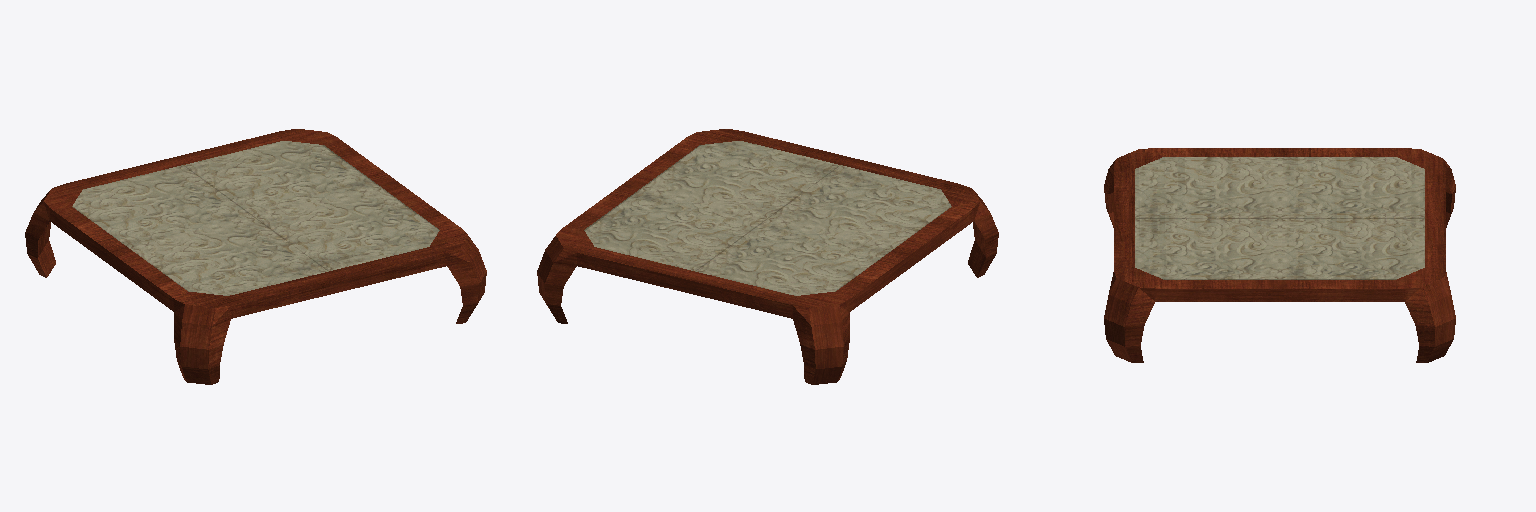
3 views of the same model, side by side, from view 1: azimuth 30°, elevation 25°; view 2: azimuth 150°, elevation 25°; view 3: azimuth 270°, elevation 25° (orthographic).
Visible parts, largest first — view 1: Dr_furnit_Smallbasis; view 2: Dr_furnit_Smallbasis; view 3: Dr_furnit_Smallbasis.
Part boxes in pixels (bbox=[...]): Dr_furnit_Smallbasis: bbox=[25, 129, 486, 384]; Dr_furnit_Smallbasis: bbox=[537, 129, 998, 384]; Dr_furnit_Smallbasis: bbox=[1104, 148, 1455, 362].
Size of the model in its own units: 68.19 by 16.02 by 67.82.
Materials: 2 (2 with a texture image).